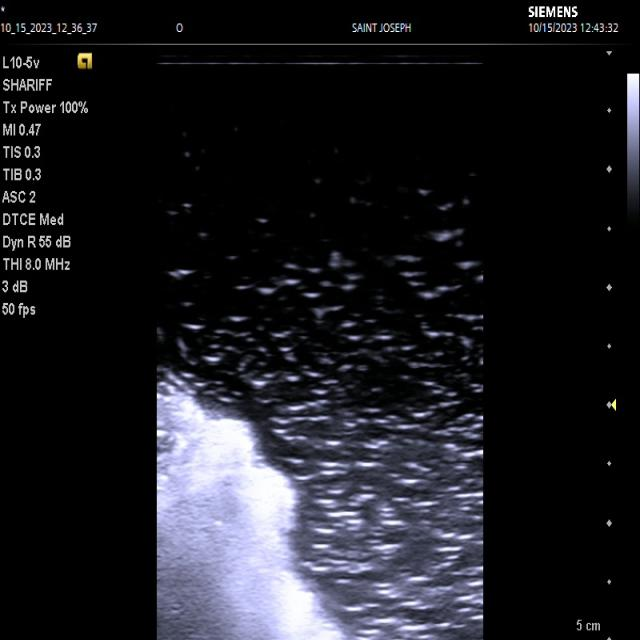tissue: (157, 382, 348, 640)
